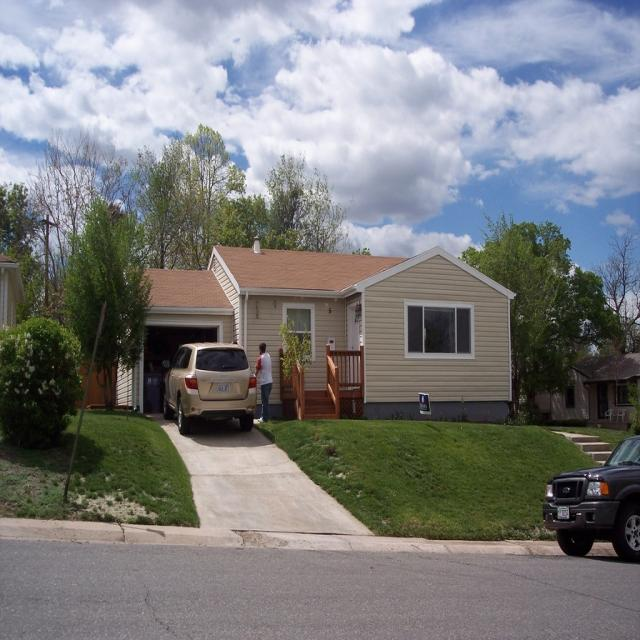car: (546, 436, 637, 562), (158, 341, 254, 433)
